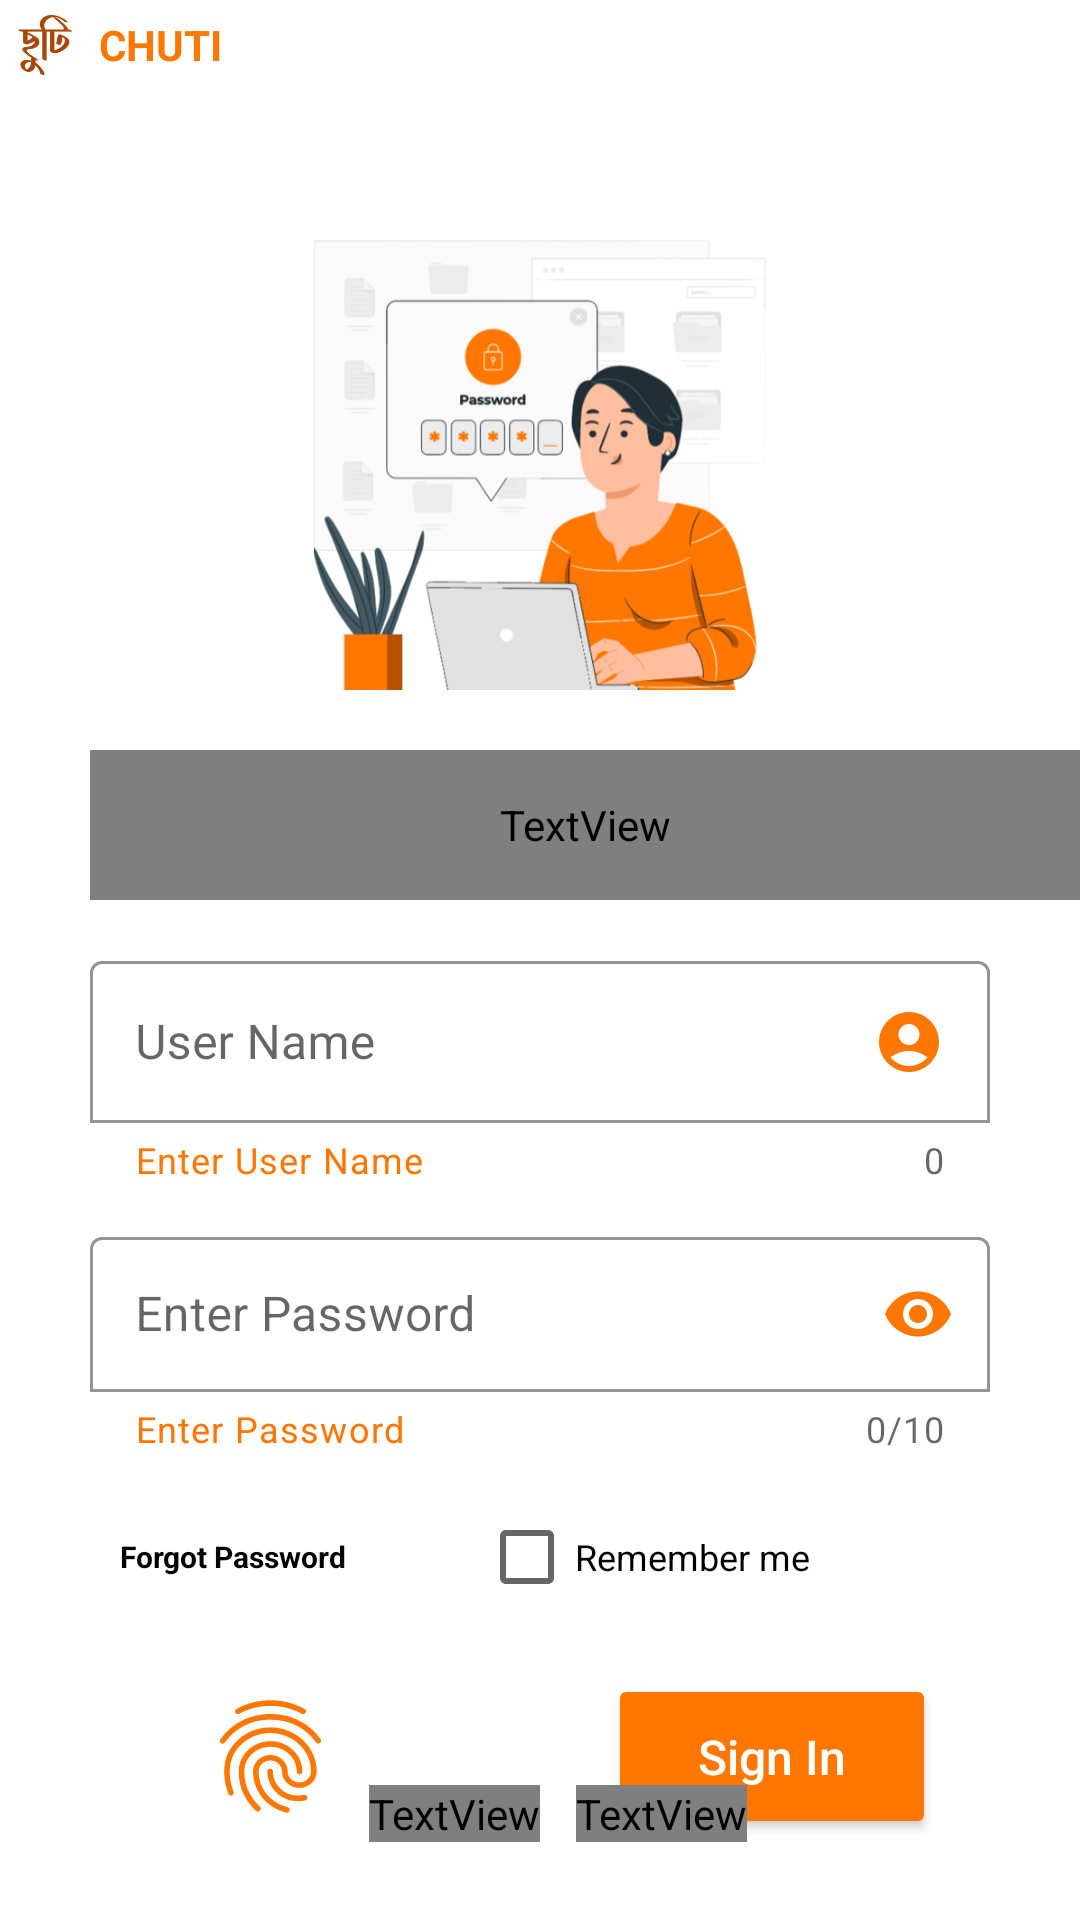

Icons on this 1080w x 1920h Android screen, each with the point to tap as (x,y):
fingerprint: (270,1756)
